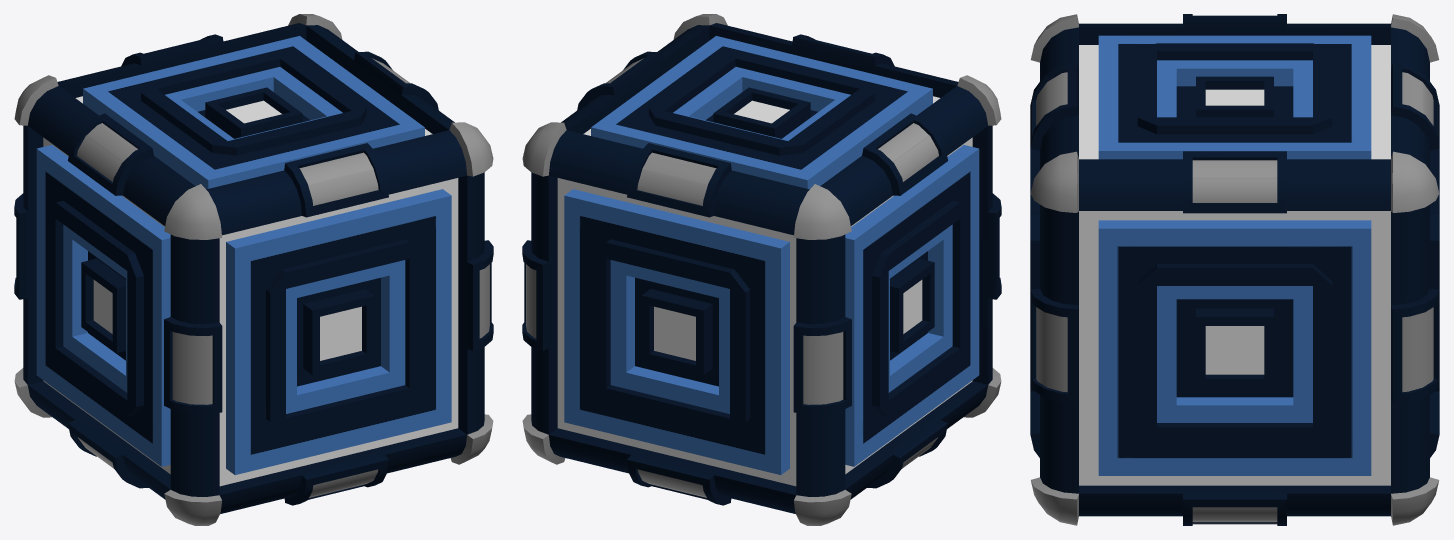
Rendered from Crate.fbx.
3 renders of one model, left to right at view 1: azimuth 30°, elevation 25°; view 2: azimuth 150°, elevation 25°; view 3: azimuth 270°, elevation 25°, orthographic. The views are drawn at different scales.
Visible parts, largest first — view 1: Crate; view 2: Crate; view 3: Crate.
Boxes of the visible parts, left/top/right/bottom form: Crate: left=14, top=14, right=493, bottom=525; Crate: left=522, top=14, right=1001, bottom=525; Crate: left=1030, top=14, right=1439, bottom=525.
Size of the model in its own units: 420 by 420 by 420.
